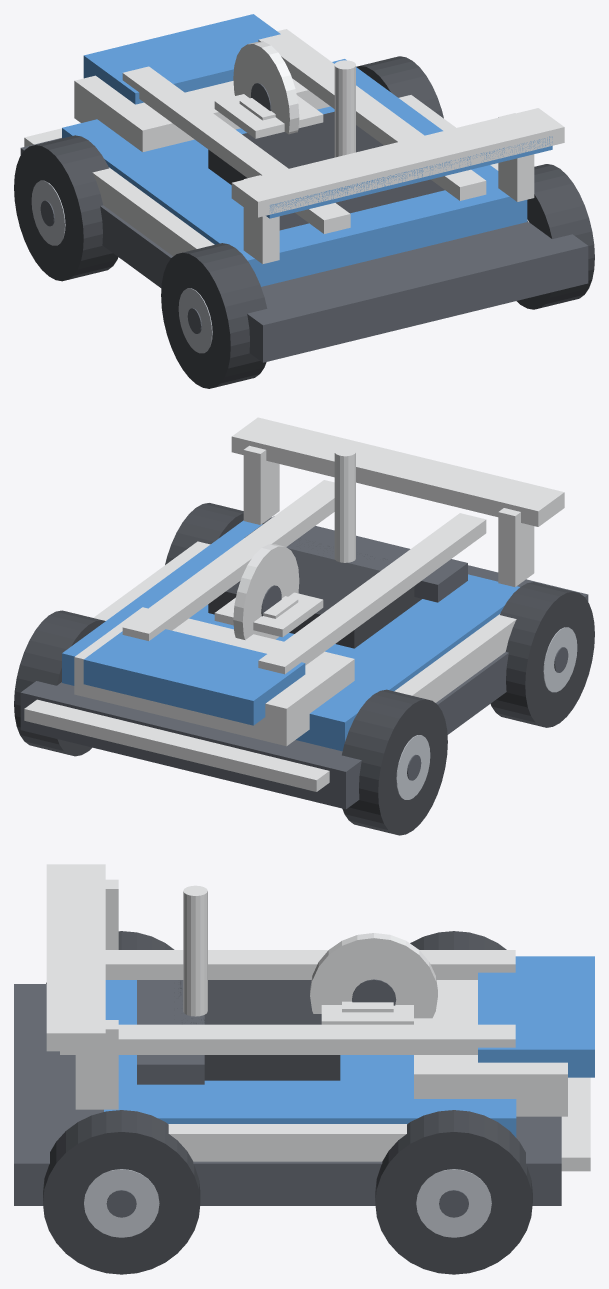
The model's file is turbo.glb.
The picture shows the model from 3 angles, top to bottom: view 1: azimuth 30°, elevation 25°; view 2: azimuth 150°, elevation 25°; view 3: azimuth 270°, elevation 25°; orthographic projection. The views are drawn at different scales.
Visible parts, largest first — view 1: part_0, part_1, part_11, part_19, part_16, part_3, part_31, part_2, part_32, part_25, part_9, part_4 (+11 smaller); view 2: part_1, part_0, part_3, part_11, part_16, part_19, part_2, part_31, part_28, part_32, part_4, part_22 (+11 smaller); view 3: part_0, part_1, part_25, part_22, part_32, part_3, part_11, part_2, part_4, part_10, part_31, part_8 (+14 smaller).
Part boxes in pixels (box(x1,y1,x2,y2)): part_0: box(20, 138, 588, 362); part_1: box(62, 59, 527, 286); part_11: box(231, 108, 564, 217); part_19: box(161, 243, 267, 388); part_16: box(14, 135, 118, 281); part_3: box(83, 14, 280, 104); part_31: box(122, 66, 350, 233); part_2: box(74, 29, 334, 152); part_32: box(258, 33, 486, 200); part_25: box(516, 164, 594, 309); part_9: box(92, 167, 214, 256); part_4: box(208, 111, 383, 184); part_1: box(62, 520, 519, 751); part_0: box(20, 517, 588, 809); part_3: box(83, 629, 305, 725); part_11: box(231, 417, 564, 526); part_16: box(342, 689, 447, 835); part_19: box(490, 582, 594, 727); part_2: box(74, 607, 354, 746); part_31: box(258, 513, 486, 674); part_28: box(24, 699, 329, 791); part_32: box(122, 480, 334, 640); part_4: box(208, 538, 421, 648); part_22: box(14, 610, 105, 756); part_0: box(14, 984, 561, 1205); part_1: box(104, 980, 516, 1137); part_25: box(43, 1110, 200, 1274); part_22: box(375, 1110, 532, 1274); part_32: box(60, 1024, 515, 1054); part_3: box(478, 956, 594, 1077); part_11: box(46, 864, 105, 1051); part_2: box(414, 980, 567, 1116); part_4: box(174, 980, 340, 1080); part_10: box(168, 1124, 406, 1161); part_31: box(105, 950, 515, 979); part_8: box(310, 933, 437, 1018).
Bounding box in the file's own units: 3.89 × 2.54 × 4.72.
